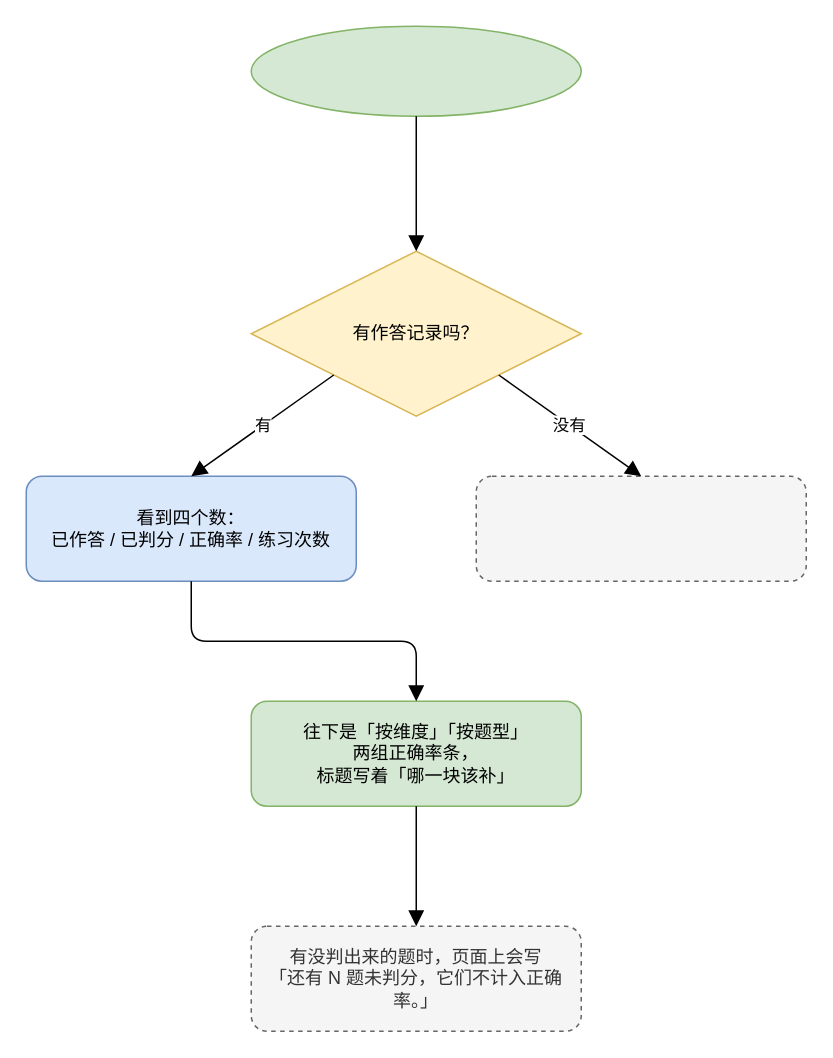
Image size: 833x1058. Some labels were removed from this diagram. The centre of each missing label's shape, as x and y in pixels:
在左侧导航点「练习统计」: (415,70)
看到「还没有练习记录」 与「去刷题」按钮: (640,528)
